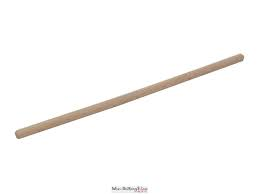straight_bar: (9, 47, 251, 152)
